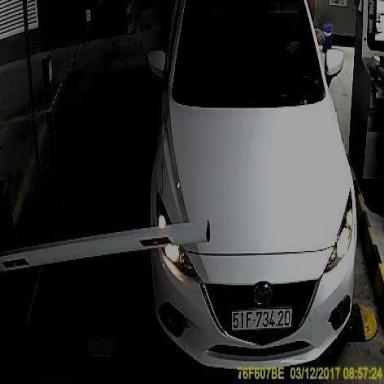License_Plate: (230, 303, 292, 331)
